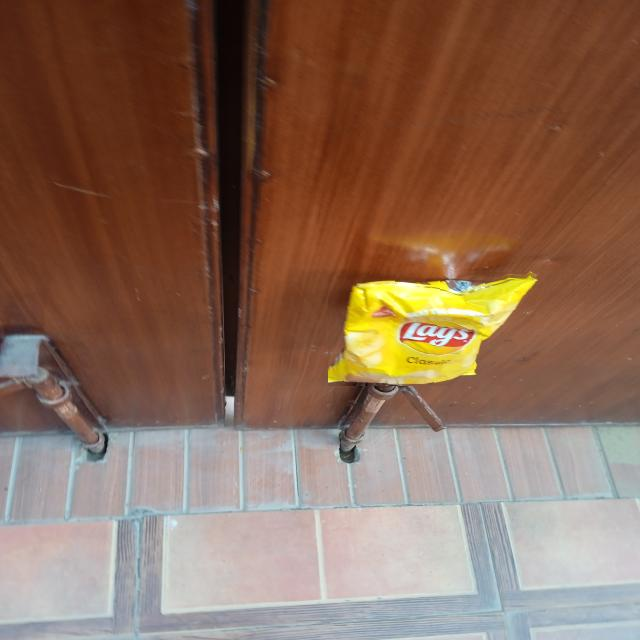Plastic: (328, 268, 538, 386)
